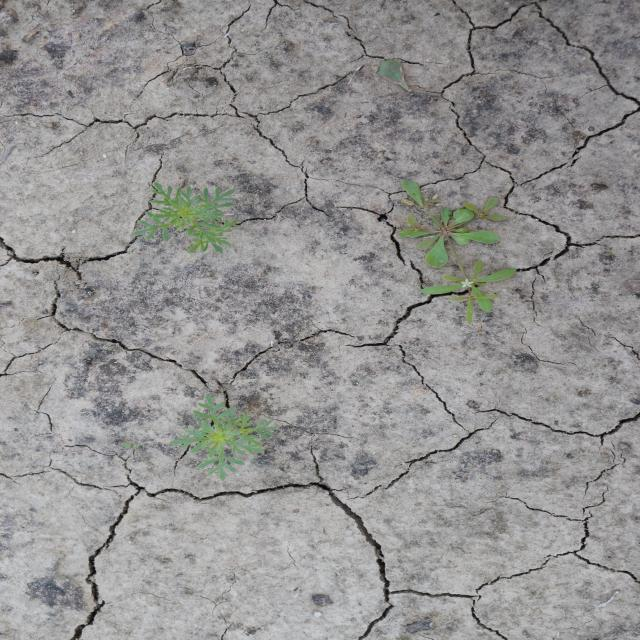Carpetweed: (396, 176, 519, 325)
Ragweed: (166, 391, 280, 482), (130, 180, 243, 257)
